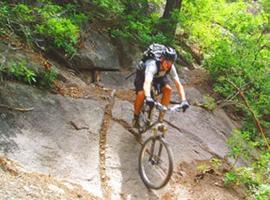person: (132, 46, 189, 136)
